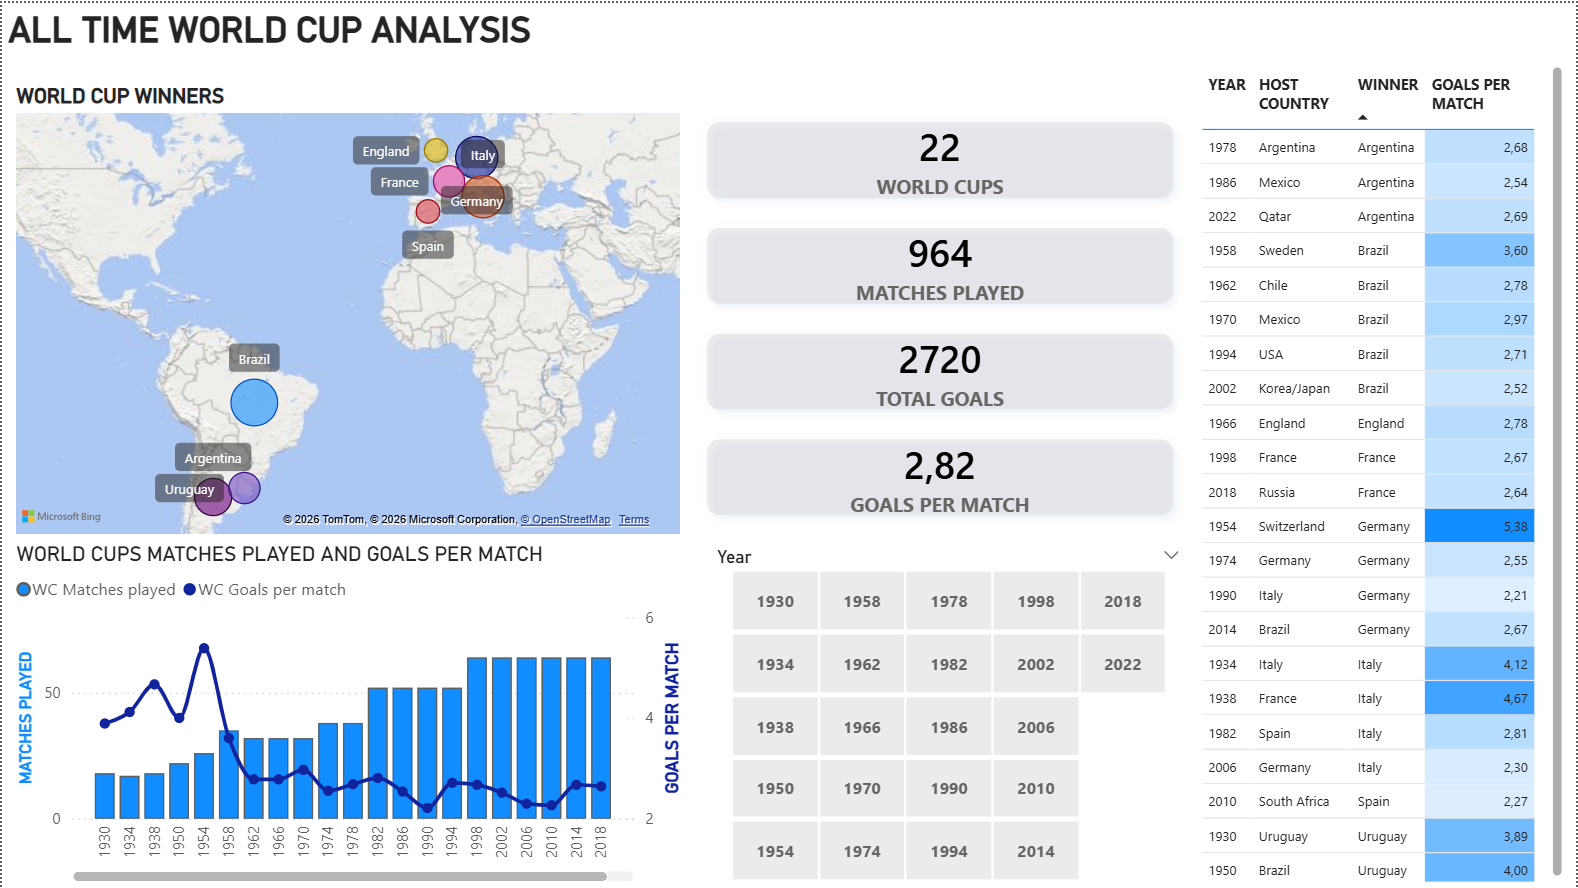

Layout of this report page (visuals, bound fields, positions):
{"tool":"powerbi","page":{"name":"All time  World Cup Analysis","canvas":[1280,720],"ordinal":0},"visuals":[{"type":"map","title":"WORLD CUP WINNERS","fields":{"Category":["world_cups.Winner"],"Size":["_Measures.WC Titles"],"Series":["world_cups.Winner"]},"box":[0,65.2,556.3,372.6],"z":0},{"type":"lineStackedColumnComboChart","title":"WORLD CUPS MATCHES PLAYED AND GOALS PER MATCH","fields":{"Category":["world_cups.Year"],"Y":["_Measures.WC Matches played"],"Y2":["_Measures.WC Goals per match"]},"box":[0,437.8,556.3,282.2],"z":1000},{"type":"textbox","box":[0,0,476.2,51.6],"z":2000},{"type":"cardVisual","fields":{"Data":["Count(world_cups.Year)","_Measures.WC Matches played","_Measures.WC Total Goals","_Measures.WC Goals per match"]},"box":[556.3,80,413.3,357.8],"z":3000},{"type":"tableEx","fields":{"Values":["world_cups.Year","world_cups.Host Country","world_cups.Winner","_Measures.WC Goals per match"]},"box":[969.6,46.7,310.4,673.3],"z":4000},{"type":"slicer","fields":{"Values":["world_cups.Year"]},"box":[568.1,437.8,401.5,282.2],"z":5000}]}

Visuals, with their boxes in screenshot pixels (x1, y1, x2, y2), scaled from the page's 1280x720 canvas onto the 1578x888 screenshot:
"WORLD CUP WINNERS" map: bbox=(0, 80, 686, 540)
"WORLD CUPS MATCHES PLAYED AND GOALS PER MATCH" lineStackedColumnComboChart: bbox=(0, 540, 686, 887)
textbox: bbox=(0, 0, 587, 64)
cardVisual - Count(world_cups.Year) x _Measures.WC Matches played: bbox=(686, 99, 1195, 540)
tableEx - world_cups.Year x world_cups.Host Country: bbox=(1195, 58, 1577, 887)
slicer - world_cups.Year: bbox=(700, 540, 1195, 887)
